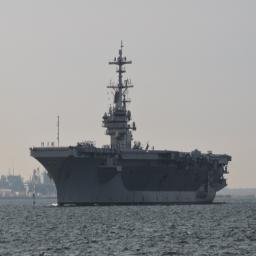Portanaves: (29, 39, 234, 210)
